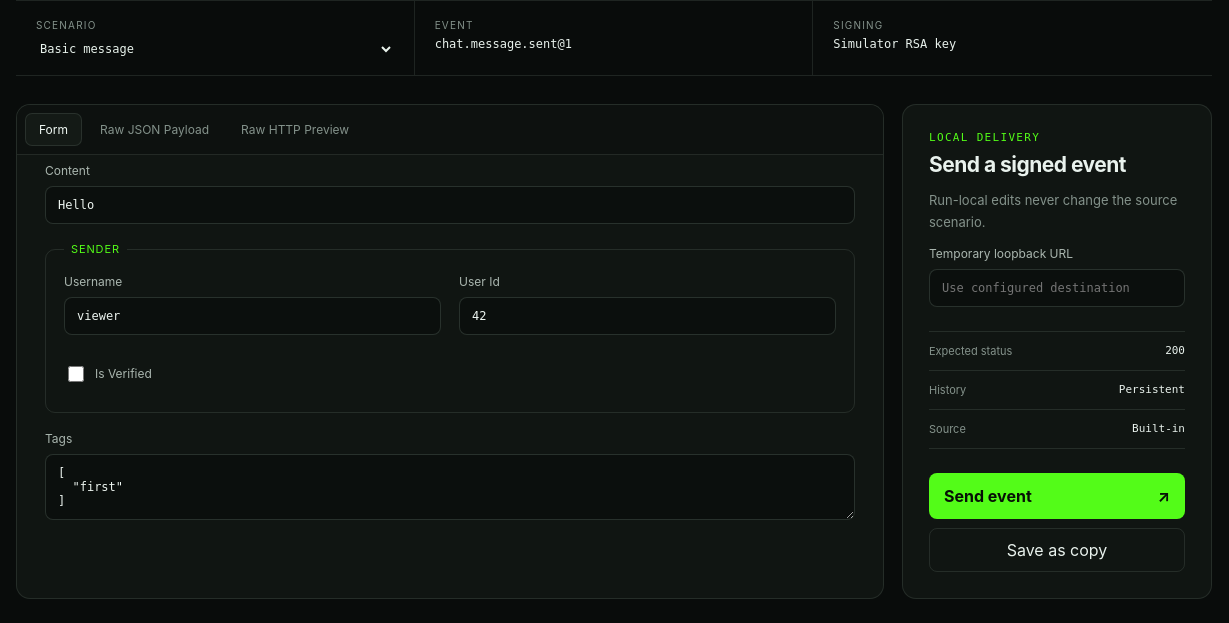
Test: event builder request state › regenerates a signed preview when the destination changes
The width and height of the screenshot is (1229, 623).
Expected: the text "chat.message.sent@1" is shown, [435, 37, 572, 51]
Click the tab "Raw HTTP Preview" at (295, 130), box [227, 113, 363, 146]
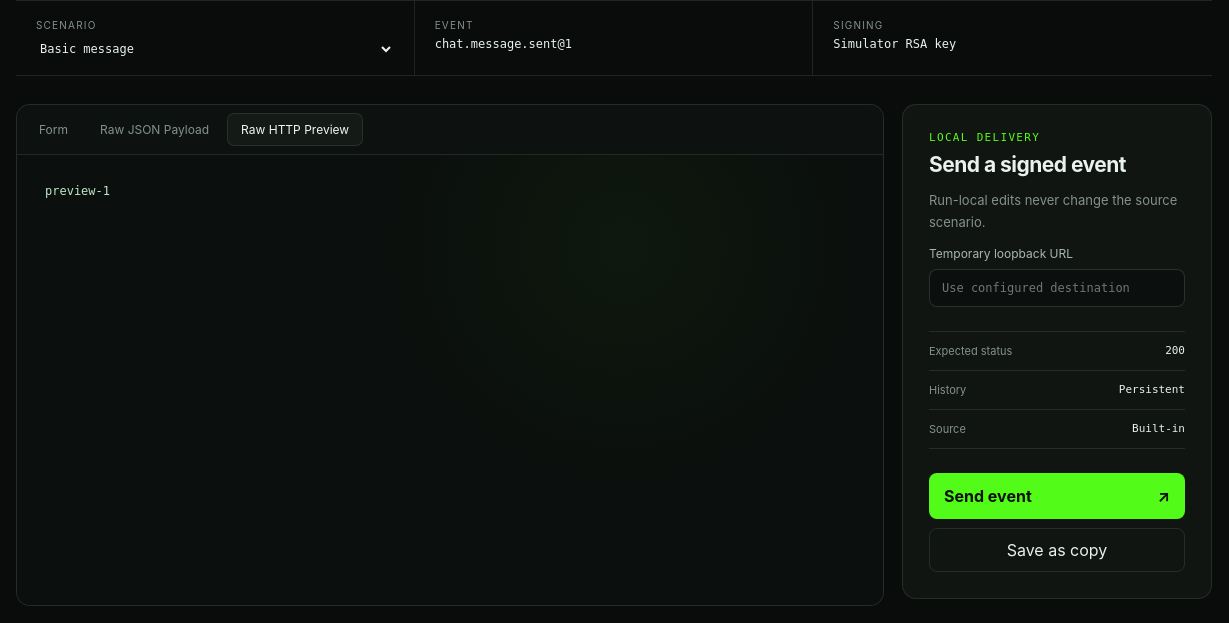
Expected: the text "preview-1" is shown, [17, 155, 883, 605]
Type "http://127.0.0.1:4000/hooks" into the field with placeholder "Use configured destination" at (1057, 288), box [929, 269, 1185, 307]
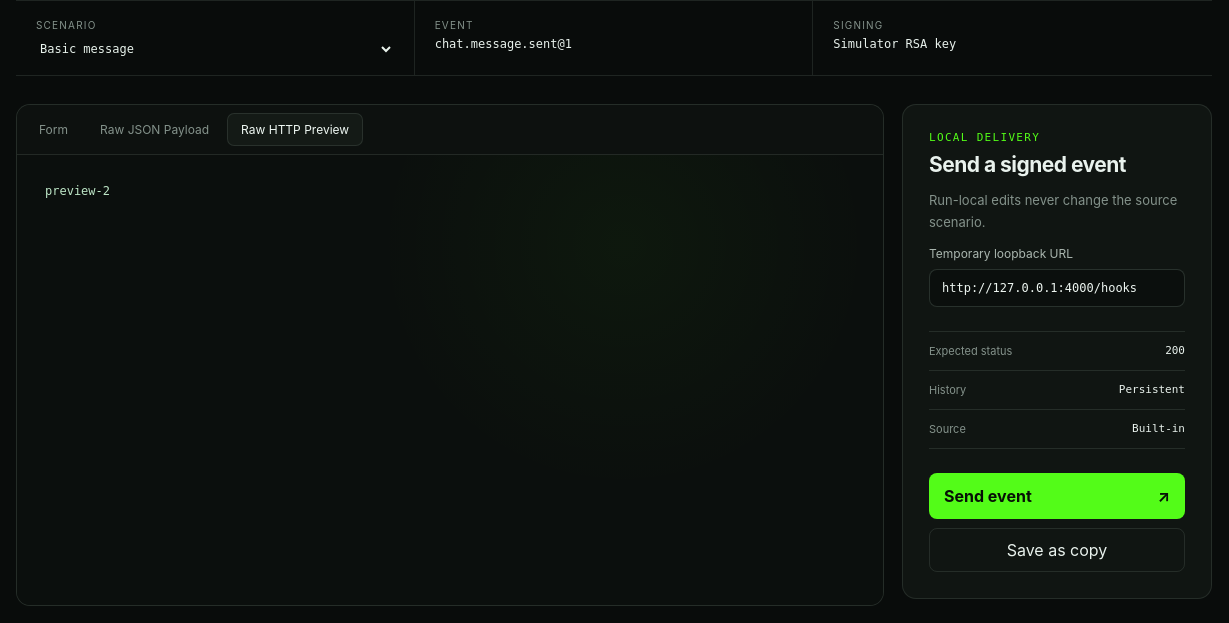
Expected: the text "preview-2" is shown, [17, 155, 883, 605]
